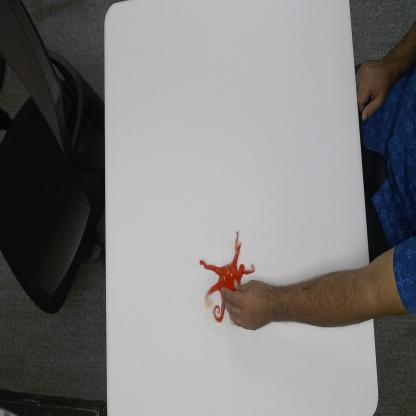Arm: (281, 258, 379, 332)
Hand: (222, 279, 279, 332)
Octopus: (199, 228, 257, 324)
